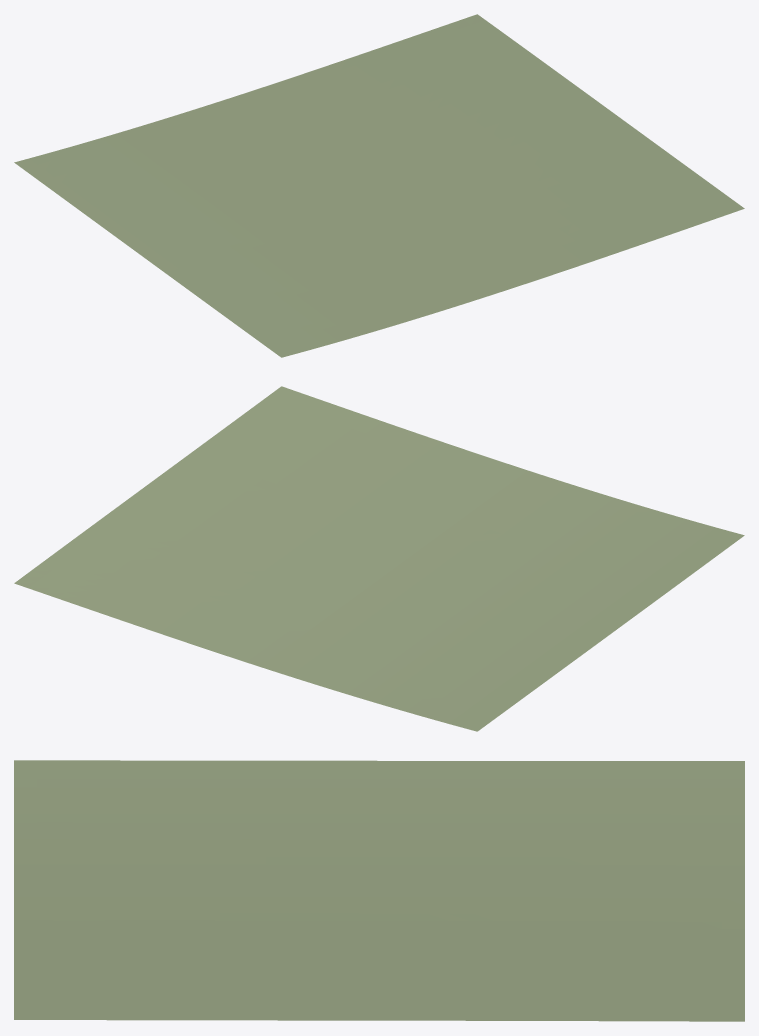
The model's file is valley-9-10.glb.
The picture shows the model from 3 angles, top to bottom: view 1: azimuth 30°, elevation 25°; view 2: azimuth 150°, elevation 25°; view 3: azimuth 270°, elevation 25°; orthographic projection. The views are drawn at different scales.
Visible parts, largest first — view 1: valley-9-10; view 2: valley-9-10; view 3: valley-9-10.
Part boxes in pixels (left/top/right/bottom): valley-9-10: left=14, top=14, right=744, bottom=357; valley-9-10: left=14, top=386, right=744, bottom=731; valley-9-10: left=14, top=760, right=744, bottom=1021.
Bounding box in the file's own units: 256 × 19.32 × 256.
